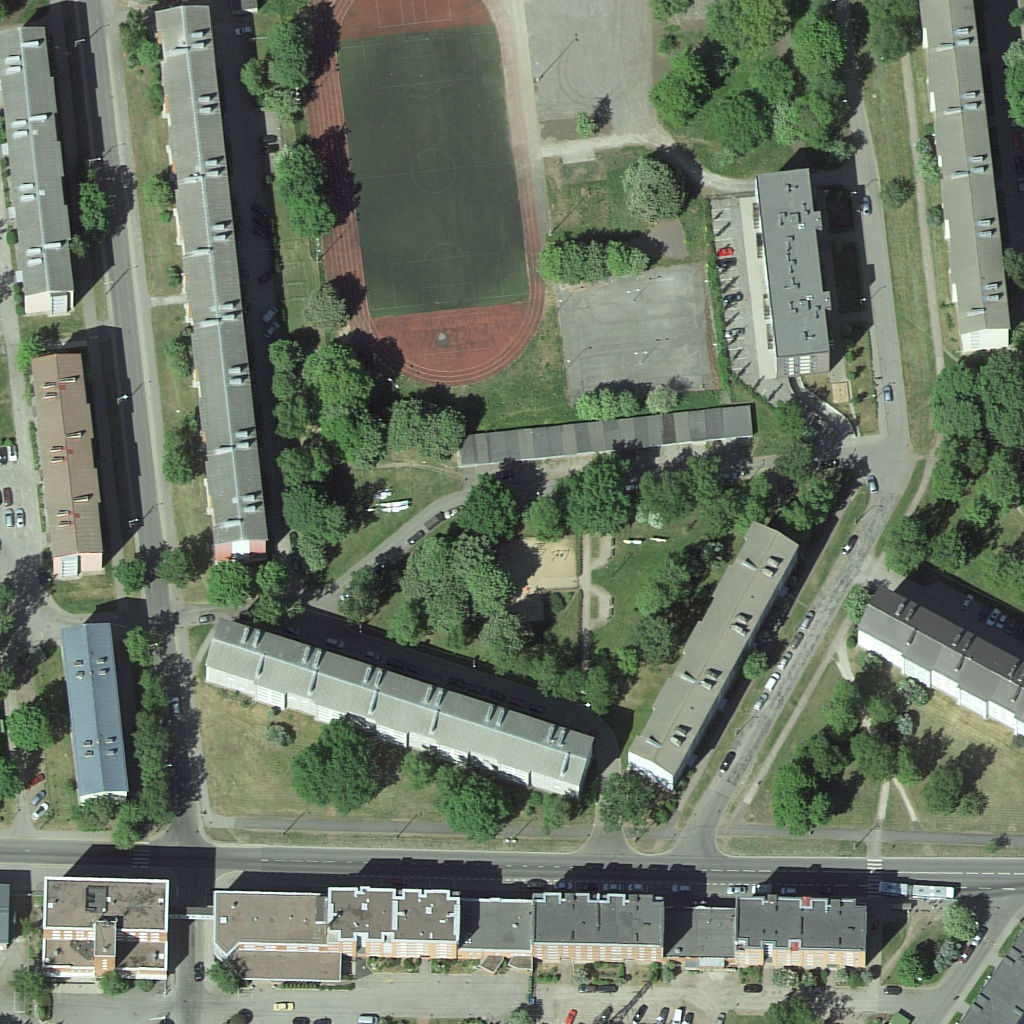building: (202, 617, 595, 797), (152, 8, 276, 558), (629, 516, 802, 792), (921, 3, 1012, 351), (851, 584, 1023, 742), (2, 22, 80, 318), (750, 164, 837, 383), (29, 351, 104, 581), (40, 873, 172, 984), (63, 619, 130, 805), (735, 891, 870, 973), (530, 886, 664, 966), (324, 885, 462, 961), (210, 888, 325, 953)
